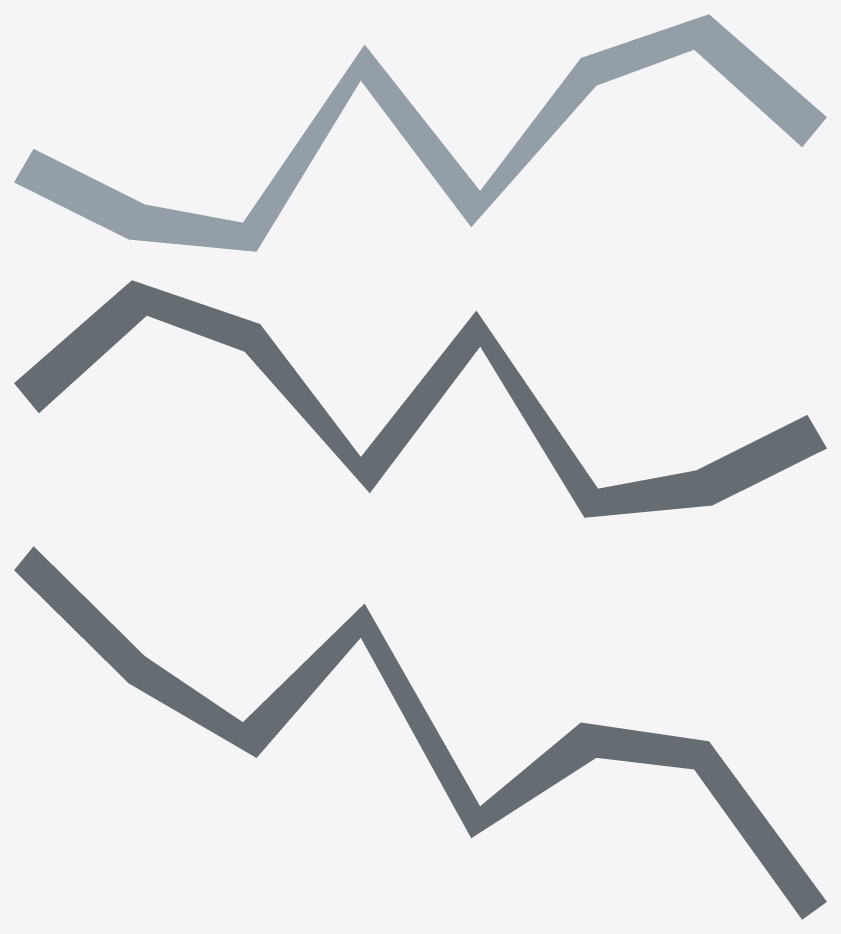
File: ElementalGround_Electro_GroundArc26.fbx
3 renders of one model, top to bottom at view 1: azimuth 30°, elevation 25°; view 2: azimuth 150°, elevation 25°; view 3: azimuth 330°, elevation 25°, orthographic.
Visible parts, largest first — view 1: PART_GroundArc26; view 2: PART_GroundArc26; view 3: PART_GroundArc26.
Part boxes in pixels (box(x1,y1,x2,y2)): PART_GroundArc26: box(14, 14, 826, 251); PART_GroundArc26: box(14, 280, 826, 517); PART_GroundArc26: box(14, 546, 826, 919).
Bounding box in the file's own units: 71.97 × 17.73 × 2.89e-06.
